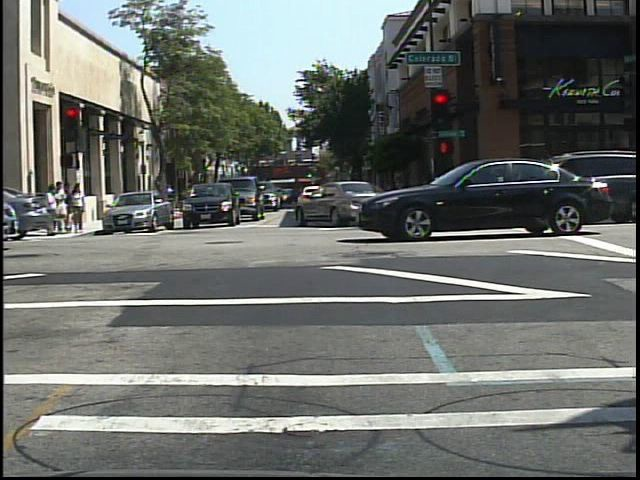person: (616, 151, 638, 221), (161, 180, 180, 219)
